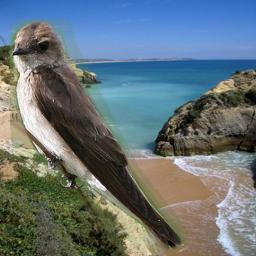Swallow: (10, 19, 188, 253)
